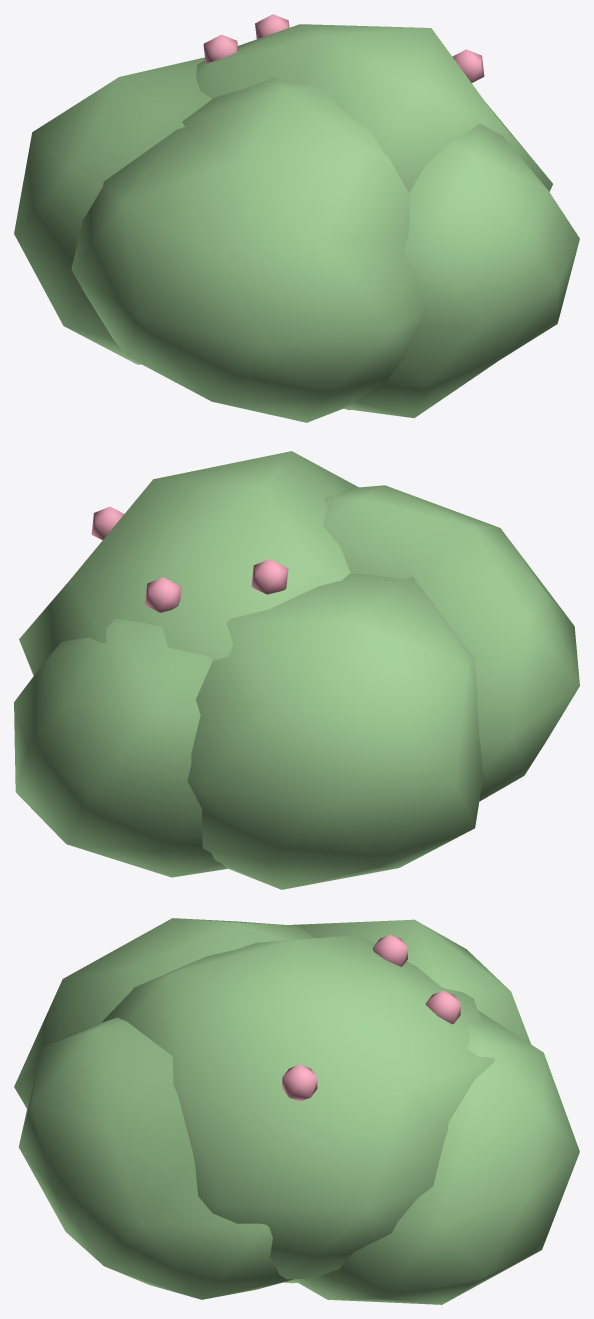
The model's file is VBush_B.fbx.
The picture shows the model from 3 angles, top to bottom: view 1: azimuth 30°, elevation 25°; view 2: azimuth 150°, elevation 25°; view 3: azimuth 270°, elevation 25°; orthographic projection. The views are drawn at different scales.
Parts seen in each view (by area): view 1: VBush_B; view 2: VBush_B; view 3: VBush_B.
Boxes of the visible parts, left/top/right/bottom form: VBush_B: left=14, top=14, right=579, bottom=422; VBush_B: left=14, top=451, right=579, bottom=889; VBush_B: left=14, top=918, right=579, bottom=1304.
Bounding box in the file's own units: 0.9492 × 0.687 × 1.03.
